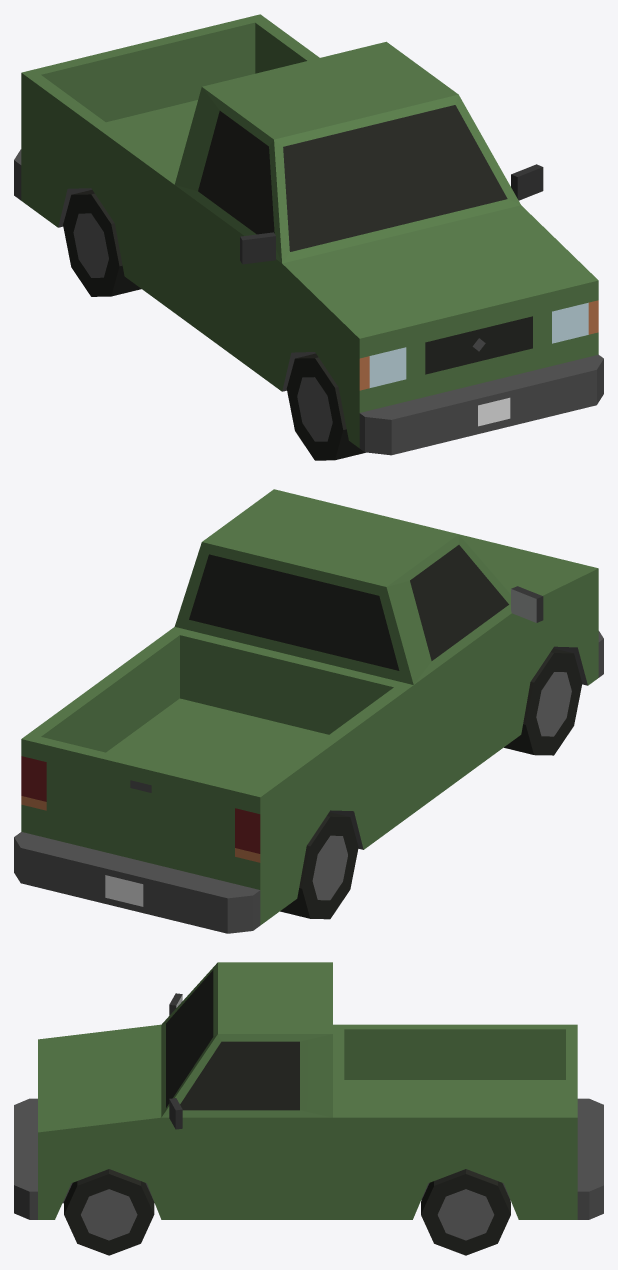
The model's file is Veh_Pickup_01_Green.glb.
3 views of the same model, one above another, from view 1: azimuth 30°, elevation 25°; view 2: azimuth 150°, elevation 25°; view 3: azimuth 270°, elevation 25° (orthographic). The views are drawn at different scales.
Visible parts, largest first — view 1: Pickup_01_Green, Wheel_FR, Wheel_RR; view 2: Pickup_01_Green, Wheel_RR, Wheel_FR; view 3: Pickup_01_Green, Wheel_FL, Wheel_RL.
Part boxes in pixels (x1,y1,x2,y2): Pickup_01_Green: (14,14,603,455); Wheel_FR: (286,353,365,460); Wheel_RR: (63,190,141,296); Pickup_01_Green: (14,489,603,933); Wheel_RR: (280,812,358,919); Wheel_FR: (504,648,582,755); Pickup_01_Green: (14,962,603,1219); Wheel_FL: (64,1169,154,1255); Wheel_RL: (421,1169,510,1255).
Bounding box in the file's own units: 1.34 × 1.12 × 2.85.
Materials: 1 (1 with a texture image).
